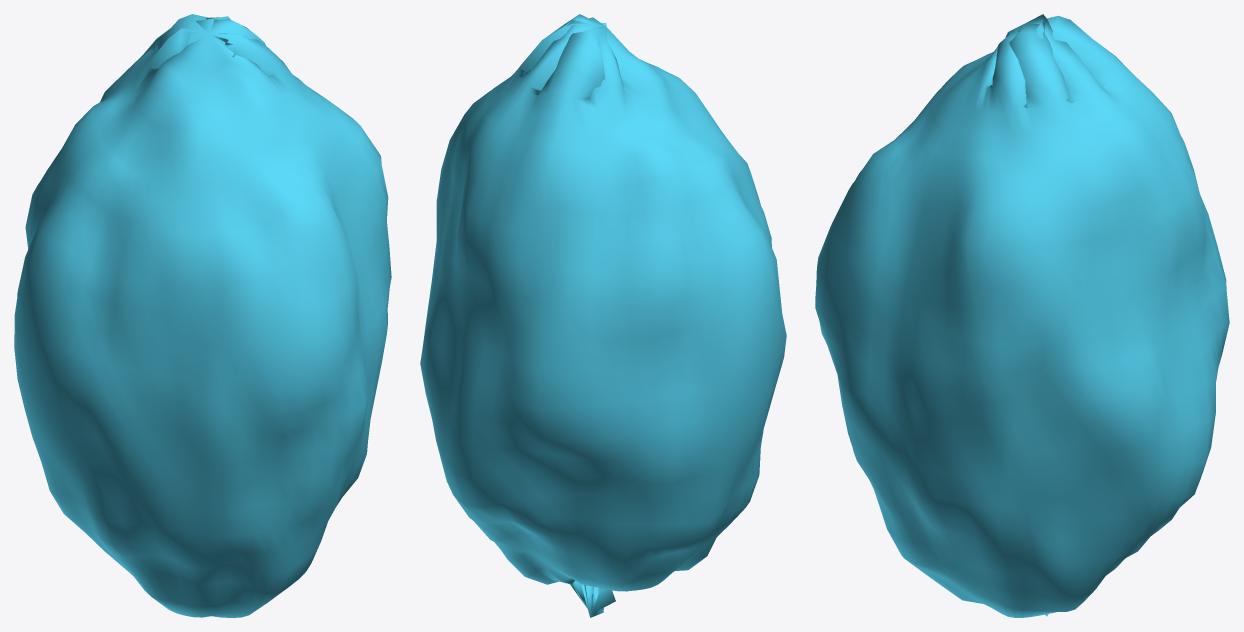
Rendered from blob_a.glb.
3 renders of one model, left to right at view 1: azimuth 30°, elevation 25°; view 2: azimuth 150°, elevation 25°; view 3: azimuth 270°, elevation 25°, orthographic. The views are drawn at different scales.
Visible parts, largest first — view 1: blob_a; view 2: blob_a; view 3: blob_a.
Boxes of the visible parts, box(x1,y1,x2,y2) form: blob_a: box(14, 14, 391, 617); blob_a: box(420, 14, 786, 617); blob_a: box(815, 14, 1229, 617).
Size of the model in its own units: 1.64 by 2.75 by 1.73.
